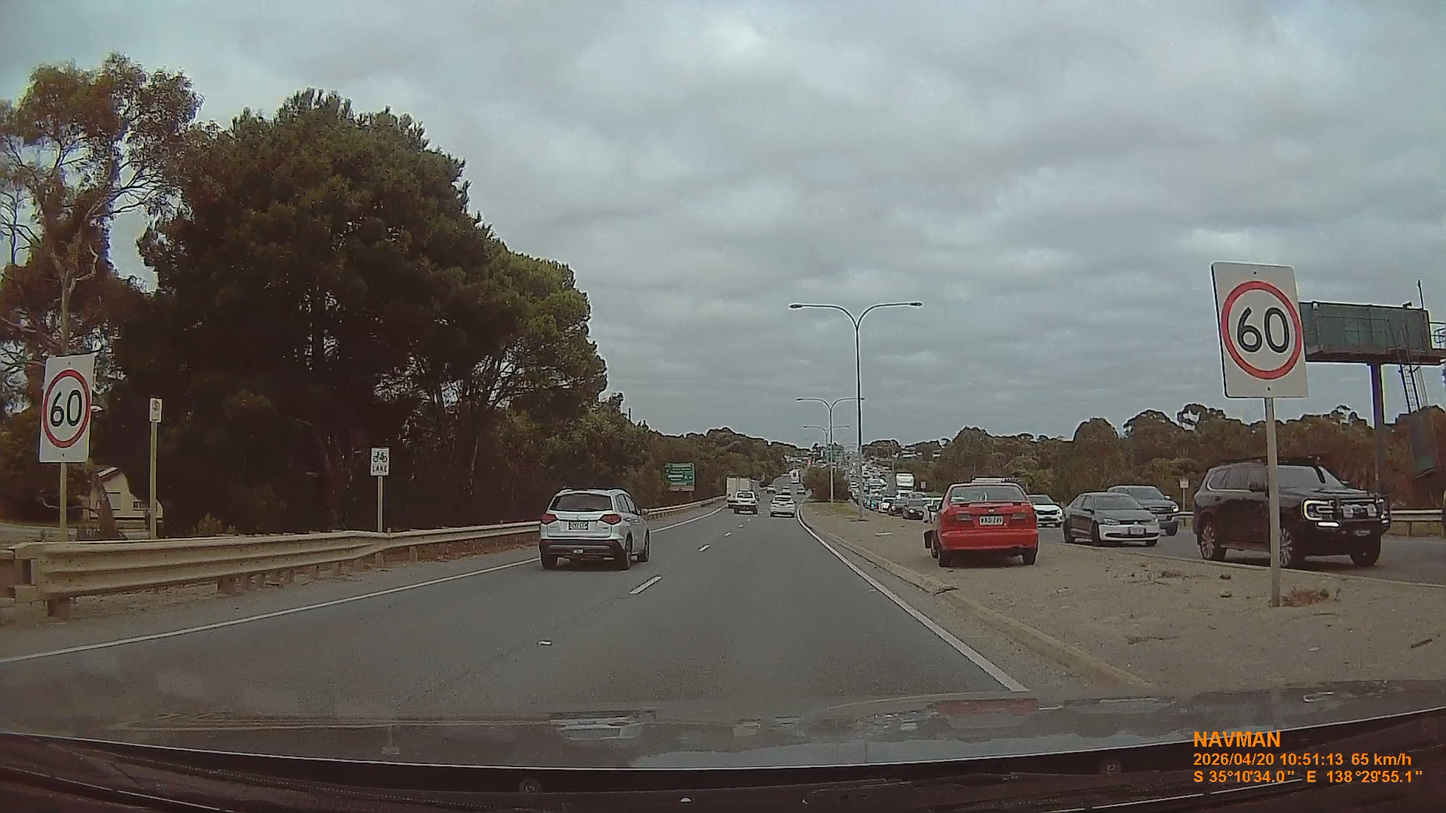road barriers: (646, 499, 715, 522)
